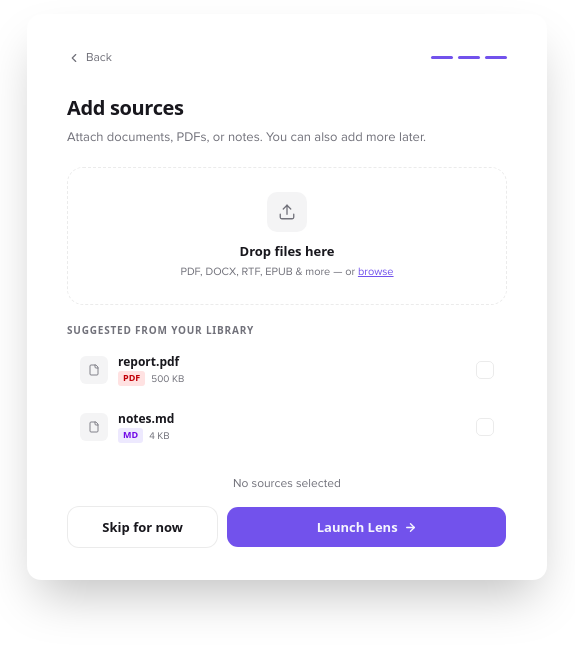
Test: AddSources › toggling a suggestion adds it to selectedSources and shows ADDED FILES
expect the text "No sources selected" is shown: met, box [233,476,341,491]
expect the text "added files" is not shown: met
Click the button with aria-label "select report.pdf" at (149, 362), box [67,343,507,396]
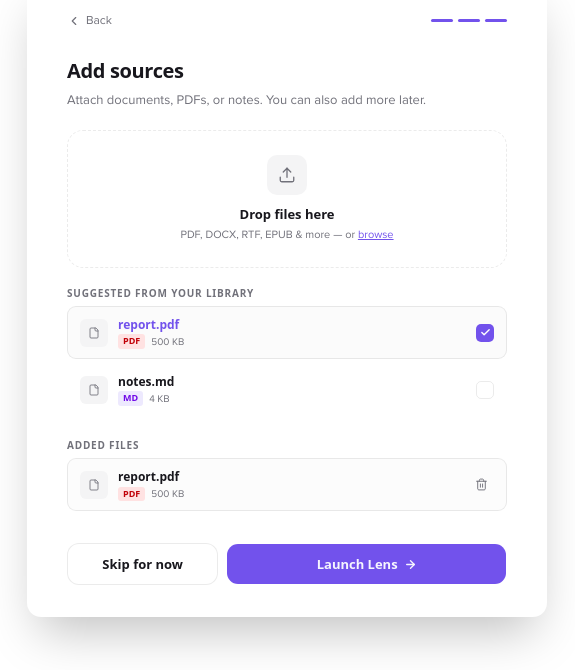
expect the text "Added files" is shown: met, box [67,438,139,452]
